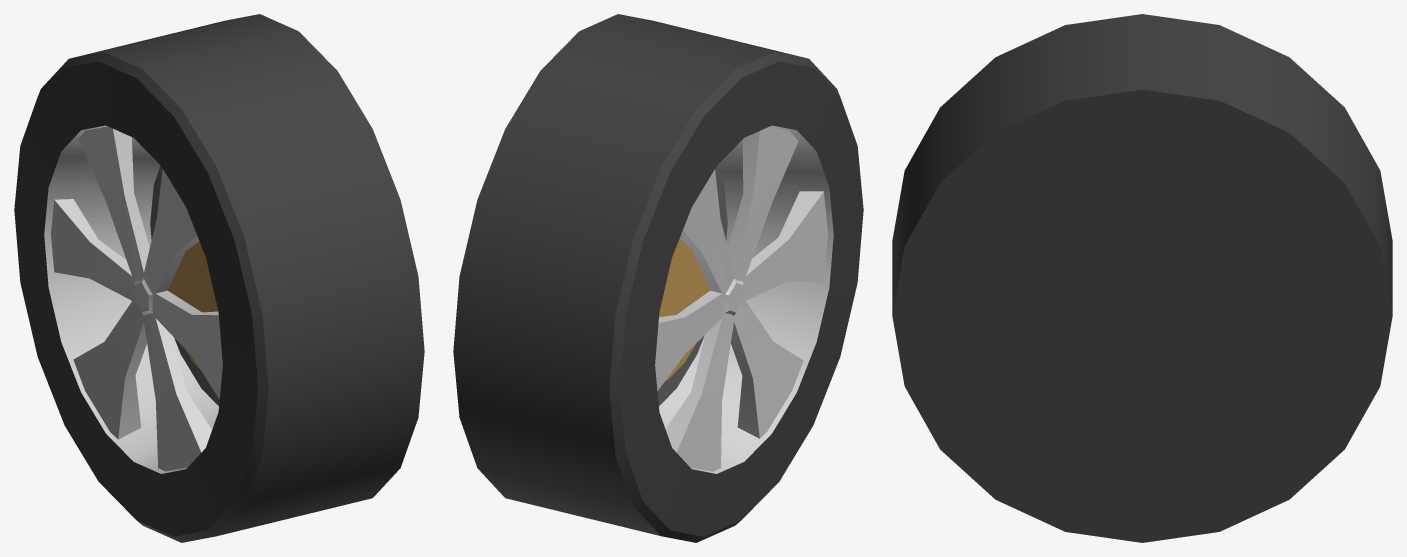
File: WheelMod_01.fbx
3 views of the same model, side by side, from view 1: azimuth 30°, elevation 25°; view 2: azimuth 150°, elevation 25°; view 3: azimuth 270°, elevation 25° (orthographic).
Parts seen in each view (by area): view 1: Wheel01_LOD00; view 2: Wheel01_LOD00; view 3: Wheel01_LOD00.
Boxes of the visible parts, x1,y1,x2,y2 form: Wheel01_LOD00: (14,14,424,542); Wheel01_LOD00: (453,14,863,542); Wheel01_LOD00: (892,14,1392,542).
Size of what is drawn, in the model's own units: 25.78 by 68.03 by 68.03.
